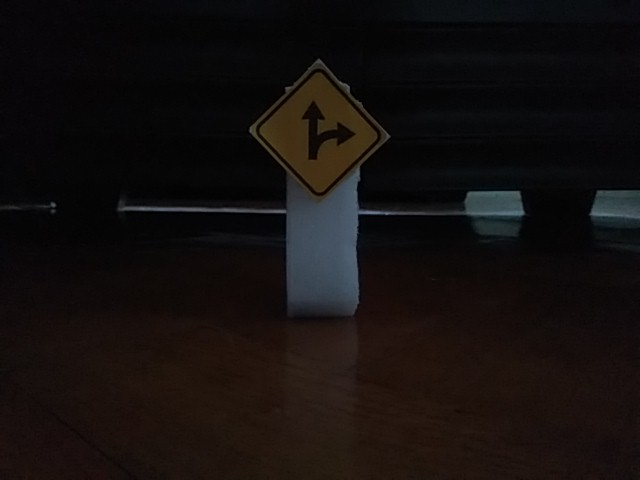Straight Or Right Sign: (254, 62, 391, 199)
